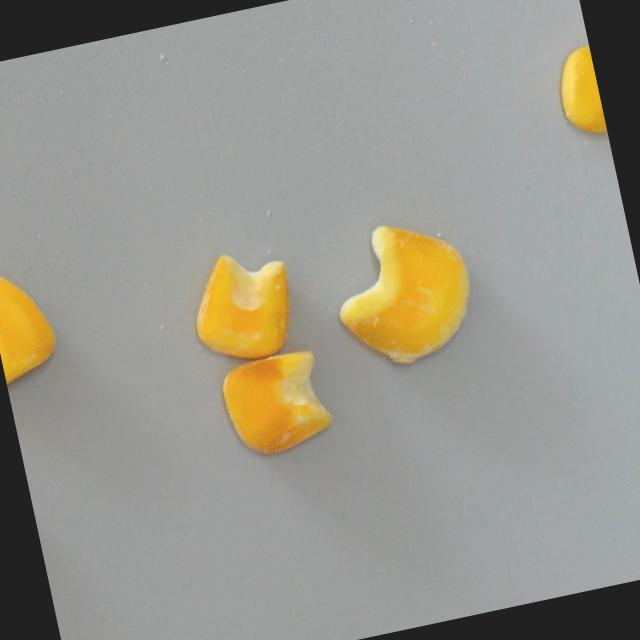pelicula: (323, 207, 484, 375), (183, 239, 303, 369), (217, 344, 336, 461), (0, 262, 64, 387), (551, 43, 607, 141)
